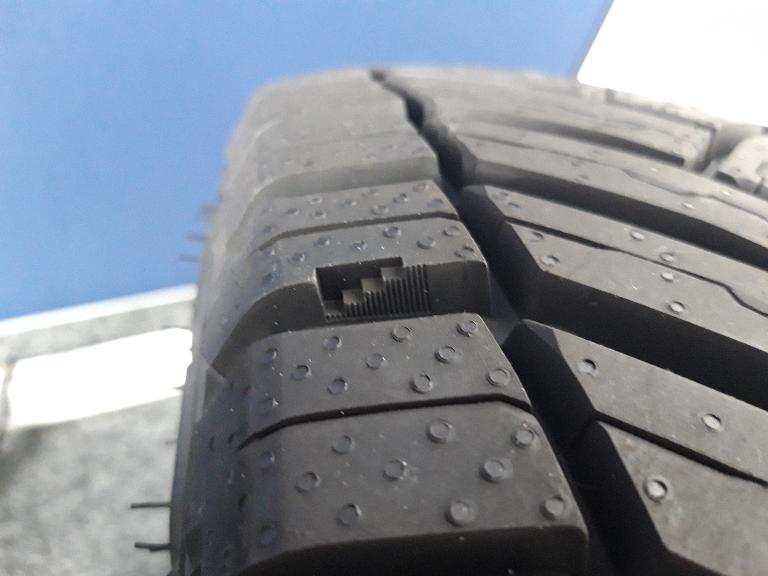temoin:100: (304, 251, 439, 329)
